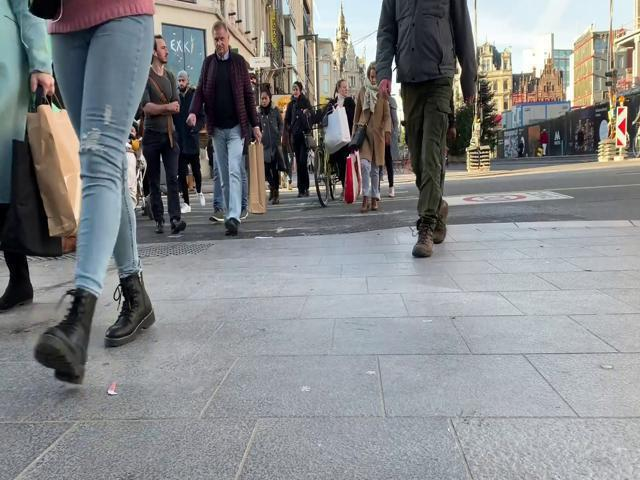shoe: (34, 288, 96, 384), (104, 272, 155, 346), (1, 275, 33, 313), (412, 223, 434, 258), (226, 217, 238, 235), (171, 219, 185, 233), (210, 210, 225, 222), (154, 221, 164, 233)
